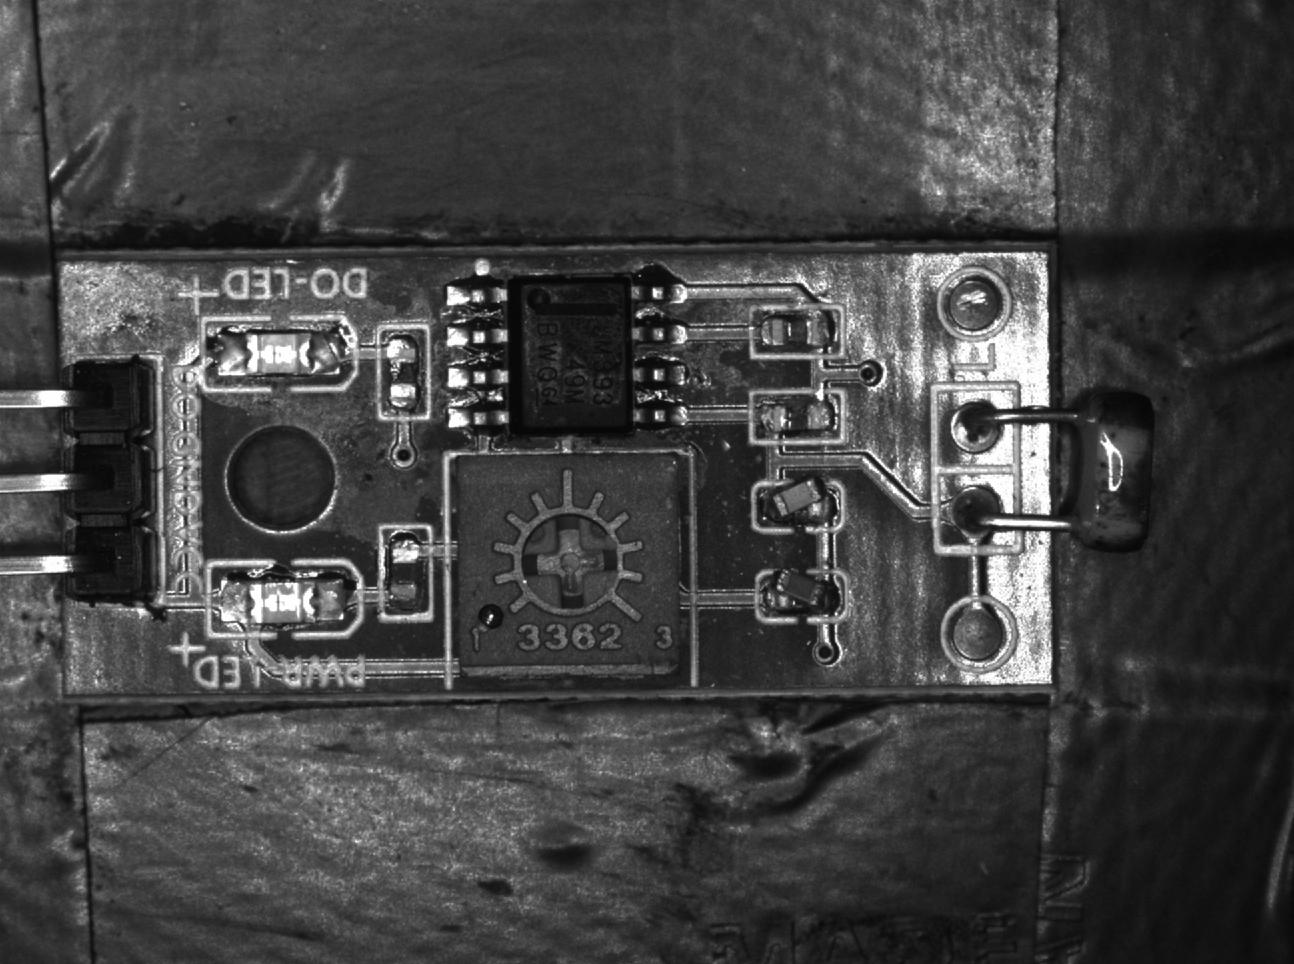lifted: (749, 477, 847, 533), (754, 567, 853, 623)
miss: (378, 524, 433, 624), (378, 325, 431, 422), (751, 393, 850, 446), (746, 310, 847, 358)
